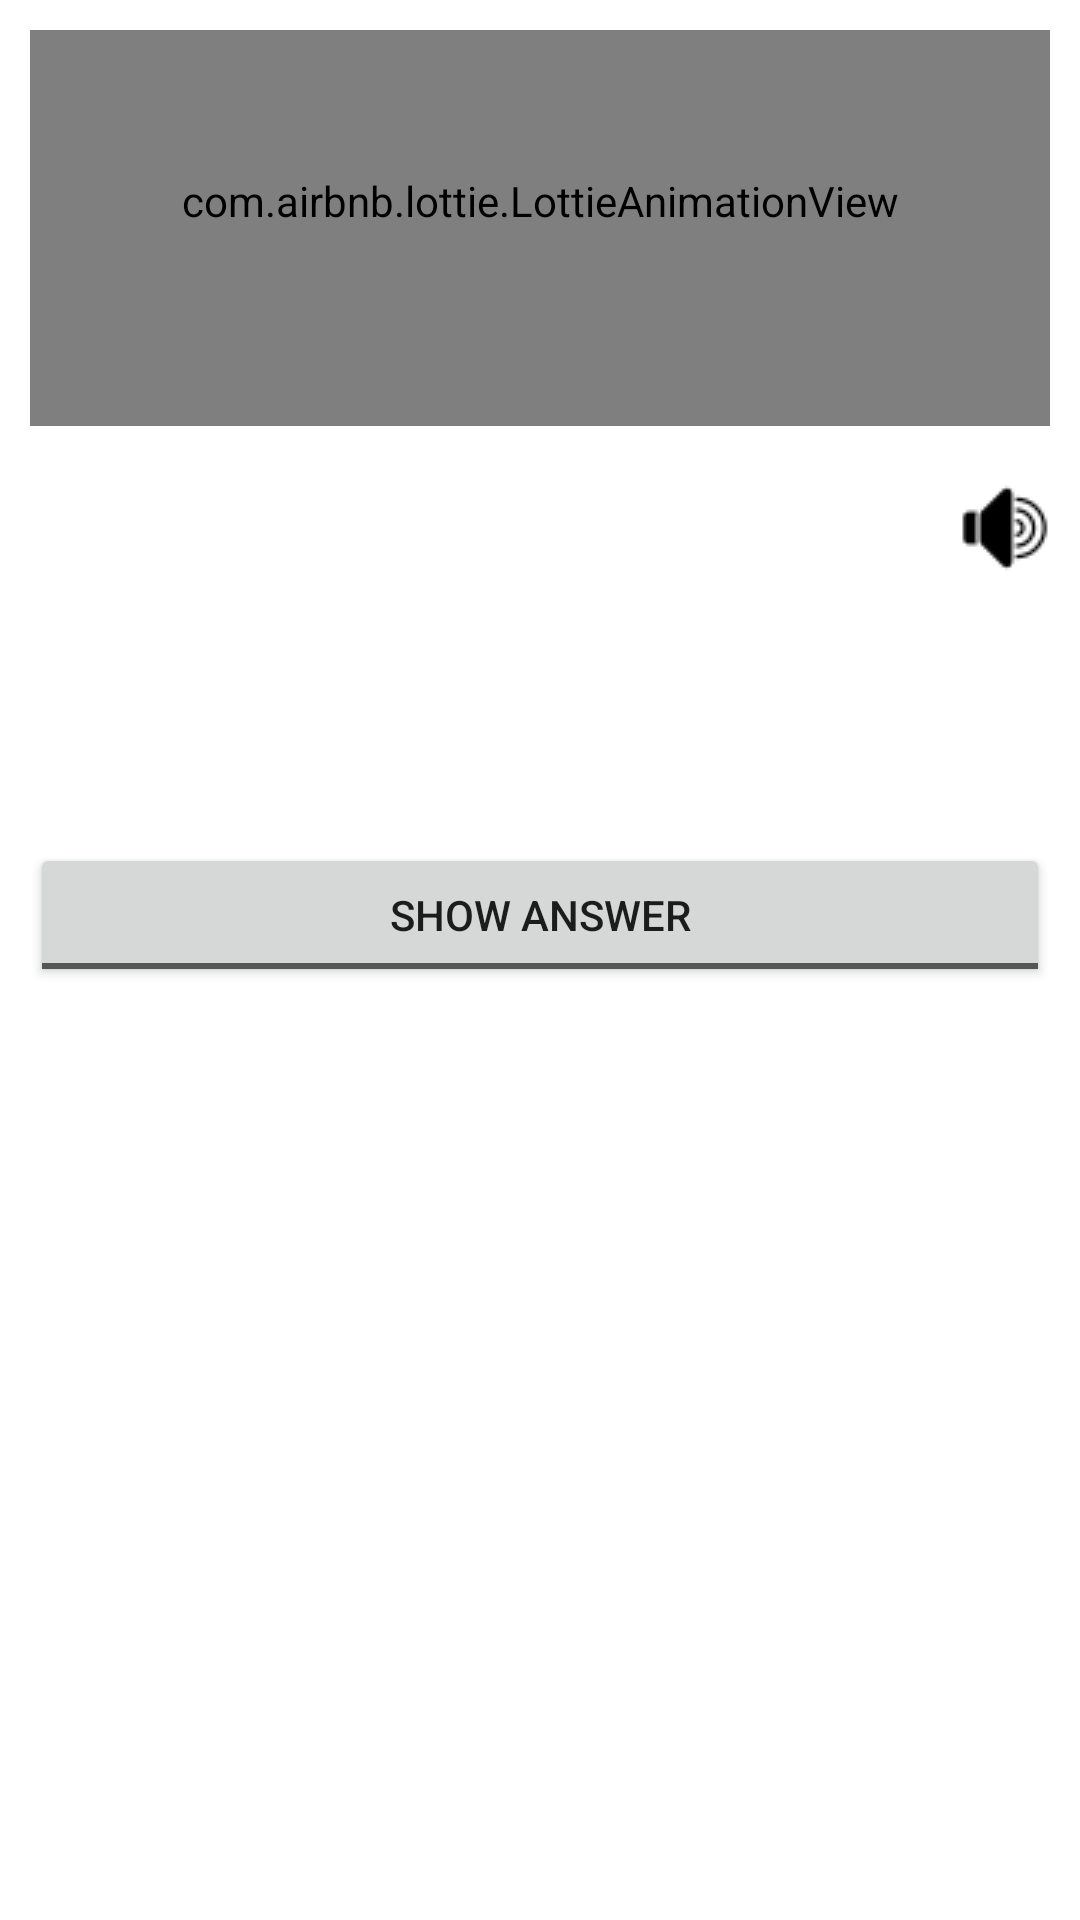

Screen size 1080x1920. Icon name, then its box in pixels as (x1, y1, x2, y2):
speaker: (962, 486, 1048, 569)
